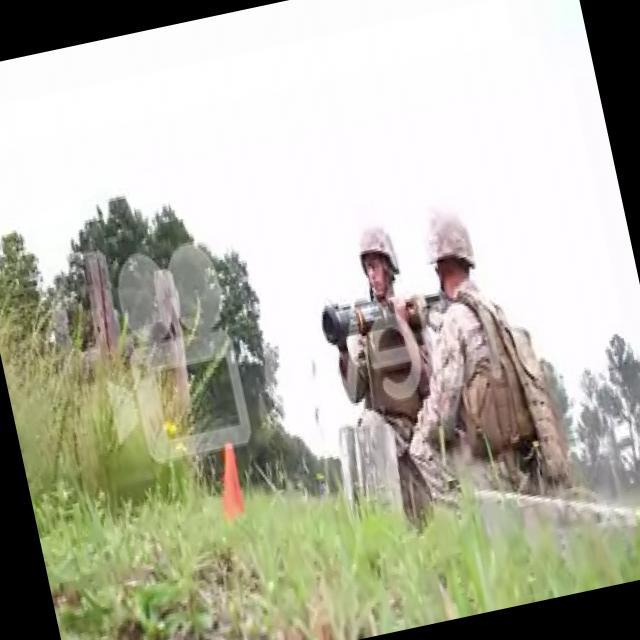rocket: (320, 286, 441, 348)
